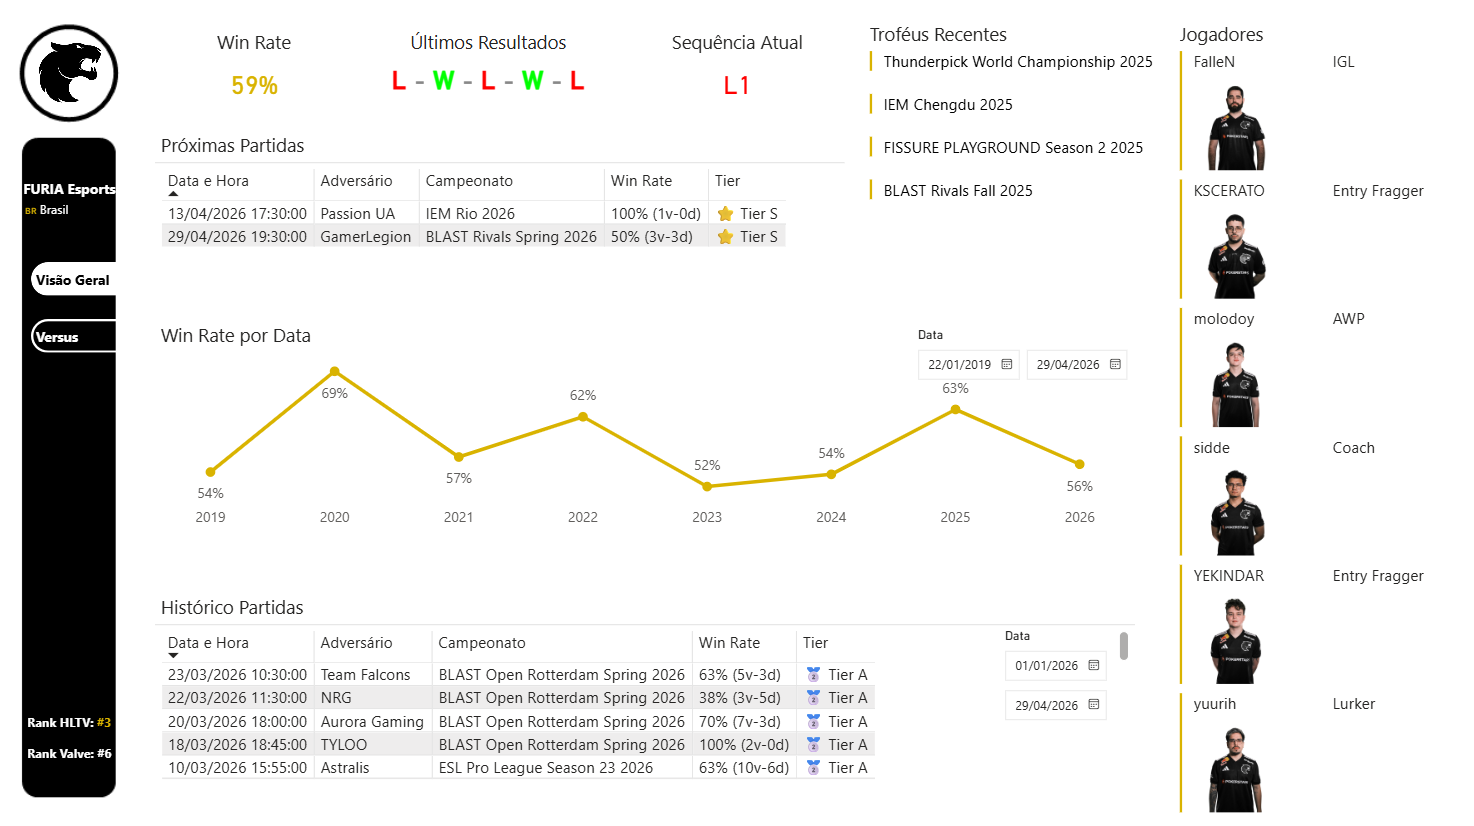

This screenshot's page, from the dashboard's own definition file:
{"tool":"powerbi","page":{"name":"Visão Geral","canvas":[1280,720],"ordinal":0},"visuals":[{"type":"image","box":[29.3,27.5,67.4,75.4],"z":0},{"type":"multiRowCard","title":"Jogadores","fields":{"Values":["Players.name","Players.role","Players.image_url"]},"box":[1017.4,20.4,262.6,699.3],"z":1000},{"type":"shape","box":[29.3,228.8,107.3,29.3],"z":2000},{"type":"shape","box":[29.3,278.4,107.3,29.3],"z":3000},{"type":"card","title":"Win Rate","fields":{"Values":["Medidas.Win Rate Formatado"]},"box":[136.6,27.5,171.1,75.4],"z":4000},{"type":"tableEx","title":"Próximas Partidas","fields":{"Values":["Matches.scheduled_at.Variation.Hierarquia de datas.Ano","Matches.opponent_name","Matches.nome_campeonato","Medidas.Win Rate vs Adversário","Medidas.Importância da Partida"]},"box":[136.6,117,595.9,164],"z":5000},{"type":"group","id":"g1","title":"Grupo 1","box":[136.6,281.1,846.8,187.1],"z":6000},{"type":"lineChart","title":"Win Rate por Data","fields":{"Y":["Medidas.Win Rate %"],"Category":["Matches.scheduled_at.Variation.Hierarquia de datas.Ano"]},"box":[136.6,281.1,847.2,186.7],"z":6000,"group":"g1"},{"type":"slicer","fields":{"Values":["Matches.scheduled_at"]},"box":[783.4,281.1,200.4,59.3],"z":7000,"group":"g1"},{"type":"group","id":"g2","title":"Grupo 2","box":[136.6,516.1,846.8,164],"z":7000},{"type":"htmlContent443BE3AD55E043BF878BED274D3A6855","title":"Últimos Resultados","fields":{"content":["Medidas.Sequência HTML"]},"box":[331.6,27.5,185.3,75.4],"z":8000},{"type":"tableEx","title":"Histórico Partidas","fields":{"Values":["Matches.scheduled_at.Variation.Hierarquia de datas.Ano","Matches.opponent_name","Matches.nome_campeonato","Medidas.Win Rate vs Adversário","Medidas.Importância da Partida"]},"box":[136.6,516.1,847.2,164.4],"z":8000,"group":"g2"},{"type":"multiRowCard","title":"Troféus Recentes","fields":{"Values":["Matches.nome_campeonato"]},"box":[749.3,20.4,266.9,246.5],"z":9000},{"type":"slicer","fields":{"Values":["Matches.scheduled_at"]},"box":[858.3,541.4,118.7,94.3],"z":9000,"group":"g2"},{"type":"card","title":"Sequência Atual","fields":{"Values":["Medidas.Sequência Atual"]},"box":[539.1,27.5,201.3,75.4],"z":10000},{"type":"textbox","box":[14.2,151.6,97.5,30.1],"z":11000},{"type":"textbox","box":[18.6,168.5,62.1,26.6],"z":12000},{"type":"textbox","box":[14.2,611.8,97.5,30.1],"z":14000},{"type":"textbox","box":[14.2,638.4,97.5,30.1],"z":15000}]}

Visuals, with their boxes in screenshot pixels (x1, y1, x2, y2), scaled from the page's 1280x720 canvas onto the 1474x826 screenshot:
image: 34,32,111,118
"Jogadores" multiRowCard: 1172,23,1473,825
shape: 34,262,157,296
shape: 34,319,157,353
"Win Rate" card: 157,32,354,118
"Próximas Partidas" tableEx: 157,134,844,322
"Grupo 1" group: 157,322,1132,537
"Win Rate por Data" lineChart: 157,322,1133,537
slicer - Matches.scheduled_at: 902,322,1133,391
"Grupo 2" group: 157,592,1132,780
"Últimos Resultados" htmlContent443BE3AD55E043BF878BED274D3A6855: 382,32,595,118
"Histórico Partidas" tableEx: 157,592,1133,781
"Troféus Recentes" multiRowCard: 863,23,1170,306
slicer - Matches.scheduled_at: 988,621,1125,729
"Sequência Atual" card: 621,32,853,118
textbox: 16,174,129,208
textbox: 21,193,93,224
textbox: 16,702,129,736
textbox: 16,732,129,767
